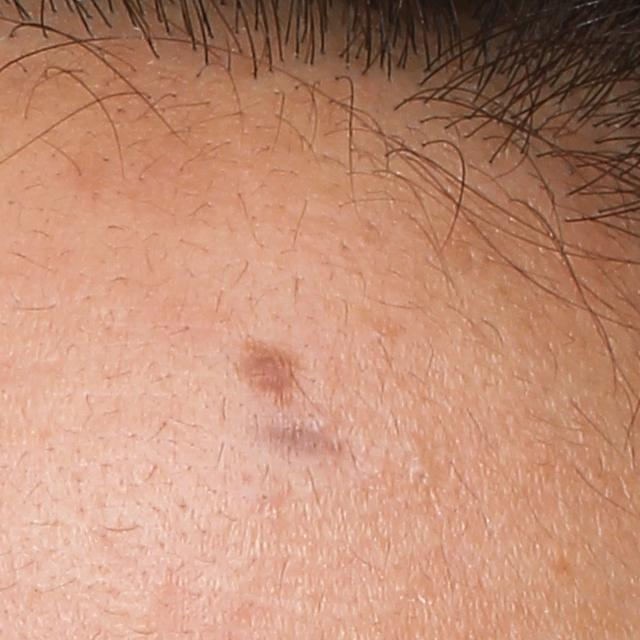atrophic_scar: (243, 416, 355, 456)
comedo: (403, 460, 439, 491)
melasma: (237, 341, 304, 390)
